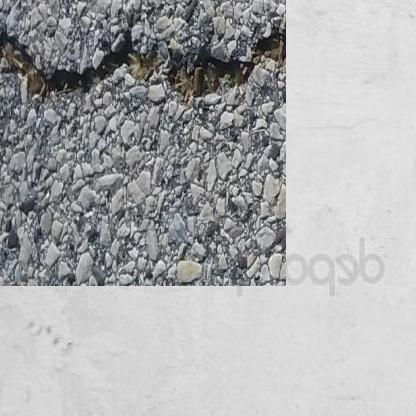Cracks: (0, 22, 153, 95), (154, 28, 264, 100)
